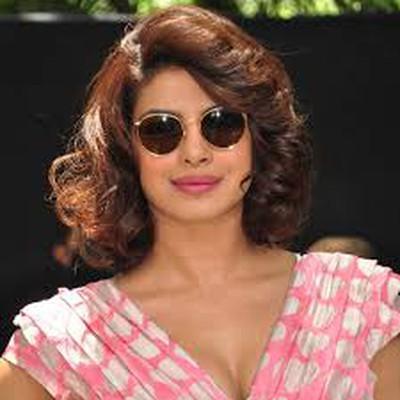eywear: (124, 97, 271, 169)
